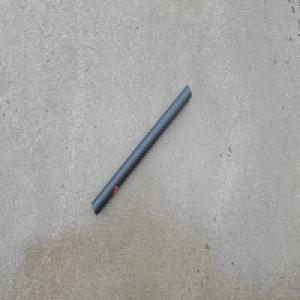LuggagePart: (91, 83, 192, 217)
